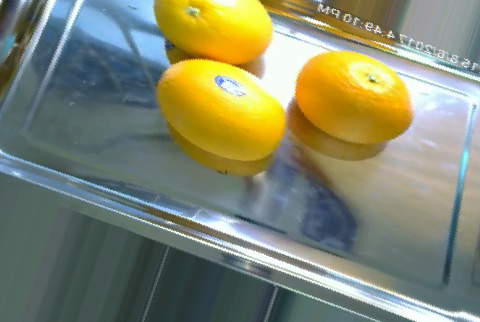Orange: (156, 58, 288, 161), (292, 49, 415, 143), (151, 0, 273, 66)
